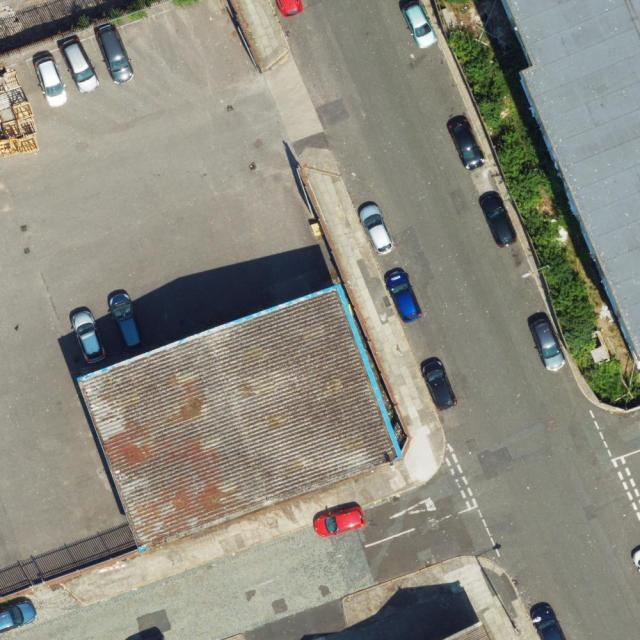roof: (79, 286, 402, 553), (503, 0, 640, 381)
